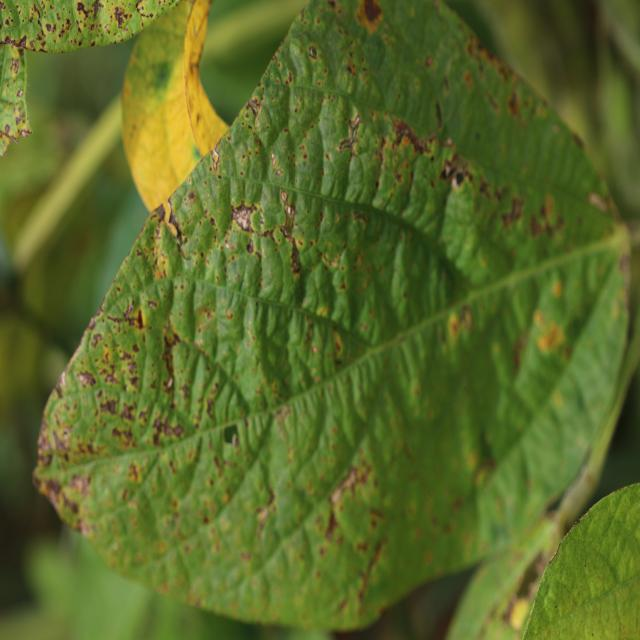Bacterial_Blight: (352, 533, 387, 607), (527, 192, 563, 241), (389, 116, 431, 155), (329, 463, 364, 507), (535, 316, 567, 354), (159, 333, 178, 392), (337, 115, 363, 157), (502, 589, 530, 628), (440, 154, 470, 188), (152, 414, 185, 444), (500, 195, 527, 231), (233, 200, 263, 231), (355, 1, 384, 32), (546, 530, 569, 565), (167, 204, 186, 240), (59, 487, 82, 516), (472, 461, 495, 488), (273, 405, 292, 435), (110, 424, 134, 447), (52, 427, 72, 454), (321, 250, 344, 270), (256, 502, 273, 529), (619, 251, 632, 285), (588, 192, 609, 213), (289, 241, 301, 275), (99, 396, 119, 416), (154, 63, 170, 88), (138, 1, 160, 19), (112, 6, 129, 29), (77, 370, 97, 389), (460, 305, 474, 332), (151, 202, 167, 223), (127, 462, 143, 483), (507, 91, 520, 115), (132, 308, 145, 329), (93, 0, 103, 24), (247, 99, 260, 117), (552, 279, 564, 298), (211, 148, 220, 172), (59, 20, 71, 37), (463, 70, 474, 88), (30, 4, 41, 21), (317, 304, 330, 318), (76, 2, 86, 17), (10, 59, 19, 75), (308, 45, 318, 59), (346, 62, 355, 76), (18, 35, 28, 47), (231, 432, 239, 447), (190, 62, 199, 74), (425, 55, 433, 68), (187, 191, 196, 202), (193, 22, 199, 36), (21, 128, 30, 137), (270, 152, 277, 163), (195, 113, 201, 125), (287, 205, 294, 215), (16, 89, 23, 98), (4, 124, 10, 133), (46, 25, 52, 33), (276, 168, 282, 176), (5, 19, 10, 26), (90, 24, 95, 31), (584, 562, 587, 568)
Soybean: (34, 0, 630, 629)
